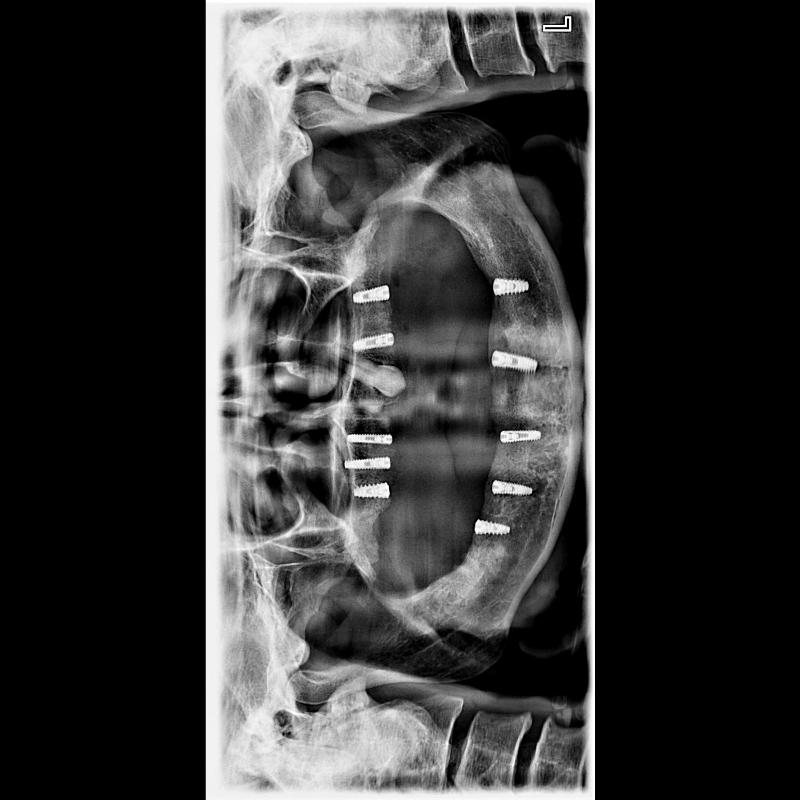osstem: (490, 348, 540, 374), (352, 331, 398, 355), (350, 480, 396, 504), (351, 284, 393, 307), (497, 428, 545, 446), (491, 478, 533, 497), (344, 456, 392, 470), (494, 278, 528, 297), (346, 432, 392, 446), (473, 521, 512, 535)
